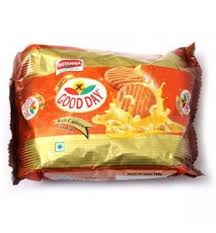gooday-medium: (16, 51, 199, 182)
